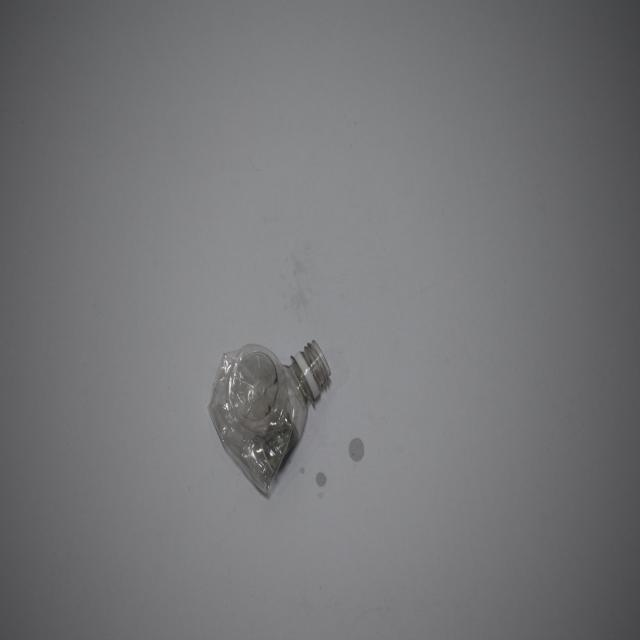bottle: (209, 301, 331, 467)
